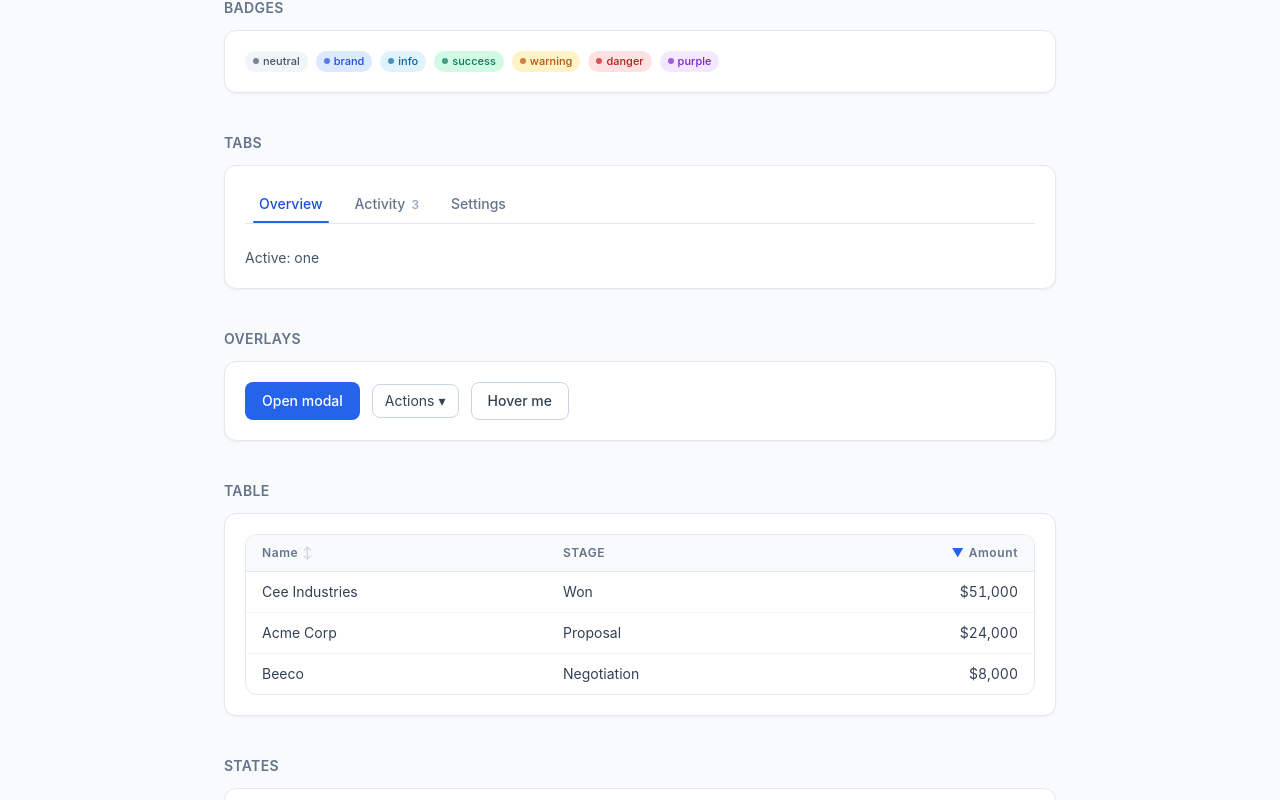
Test: UiKit gallery › opens the example modal
(page scrolled)
Click the button with test id "open-modal": (302, 400) [245, 382, 360, 420]
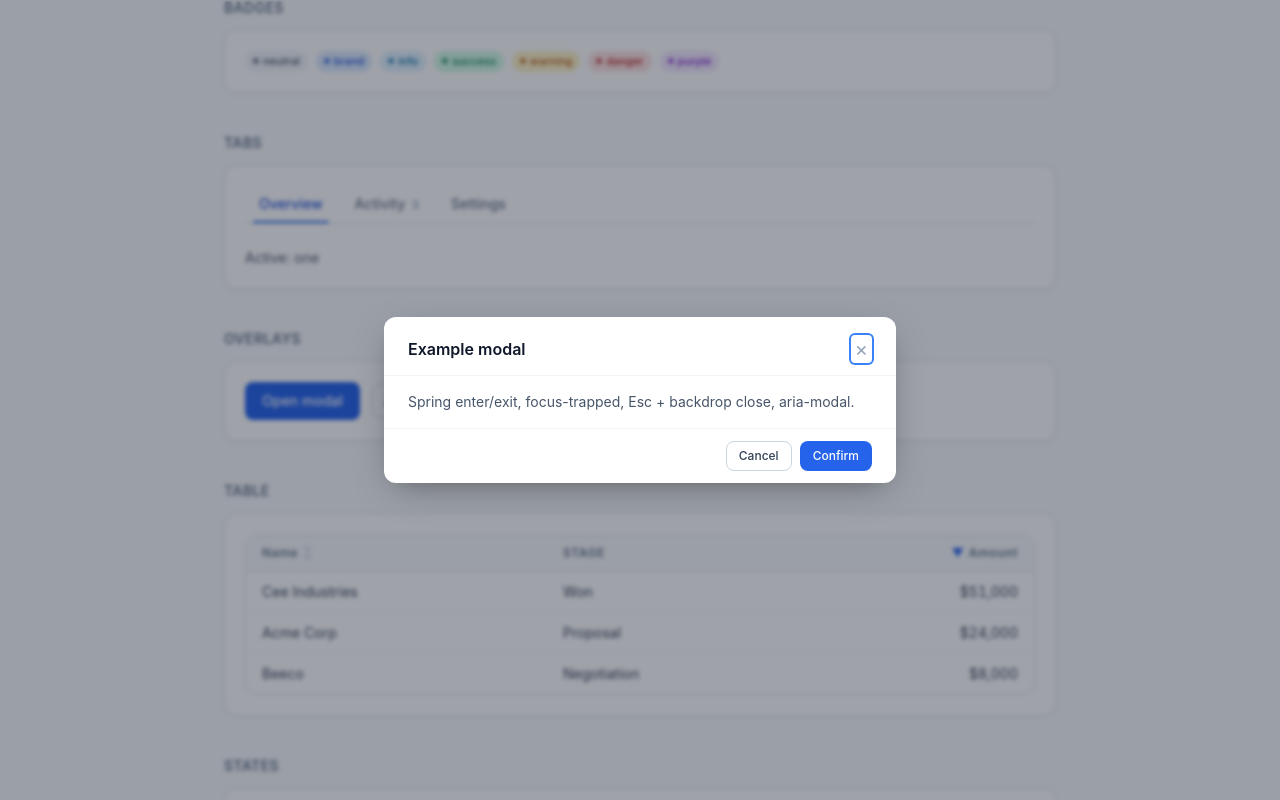
Expected: the dialog with test id "modal" is shown, [384, 317, 896, 483]
